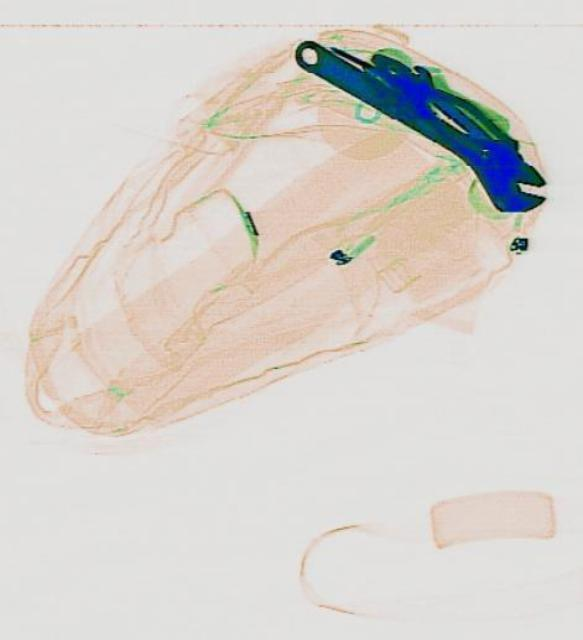Pliers: (360, 39, 522, 169)
Wrench: (276, 18, 557, 228)
